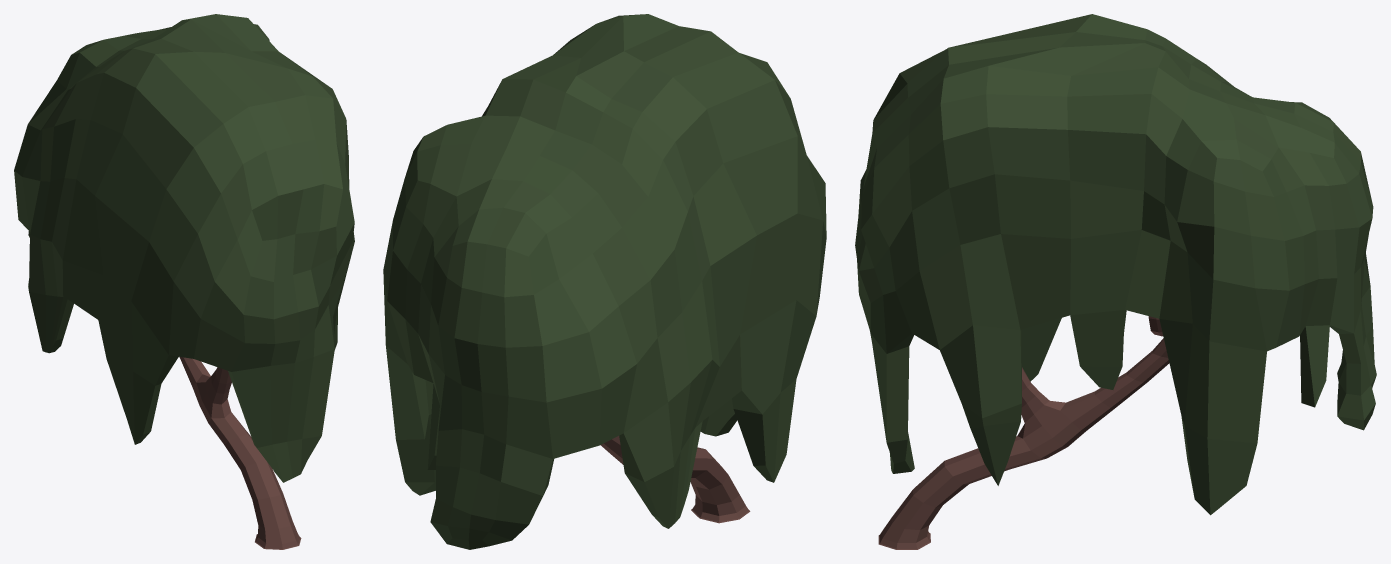
The model's file is Willow_2-transformed.glb.
The picture shows the model from 3 angles, left to right: view 1: azimuth 30°, elevation 25°; view 2: azimuth 150°, elevation 25°; view 3: azimuth 270°, elevation 25°; orthographic projection. The views are drawn at different scales.
Parts seen in each view (by area): view 1: Willow_2; view 2: Willow_2; view 3: Willow_2.
Boxes of the visible parts, x1,y1,x2,y2 form: Willow_2: (14,14,354,549); Willow_2: (383,14,826,549); Willow_2: (855,14,1376,549).
Size of the model in its own units: 1.95 by 3.32 by 3.11.
